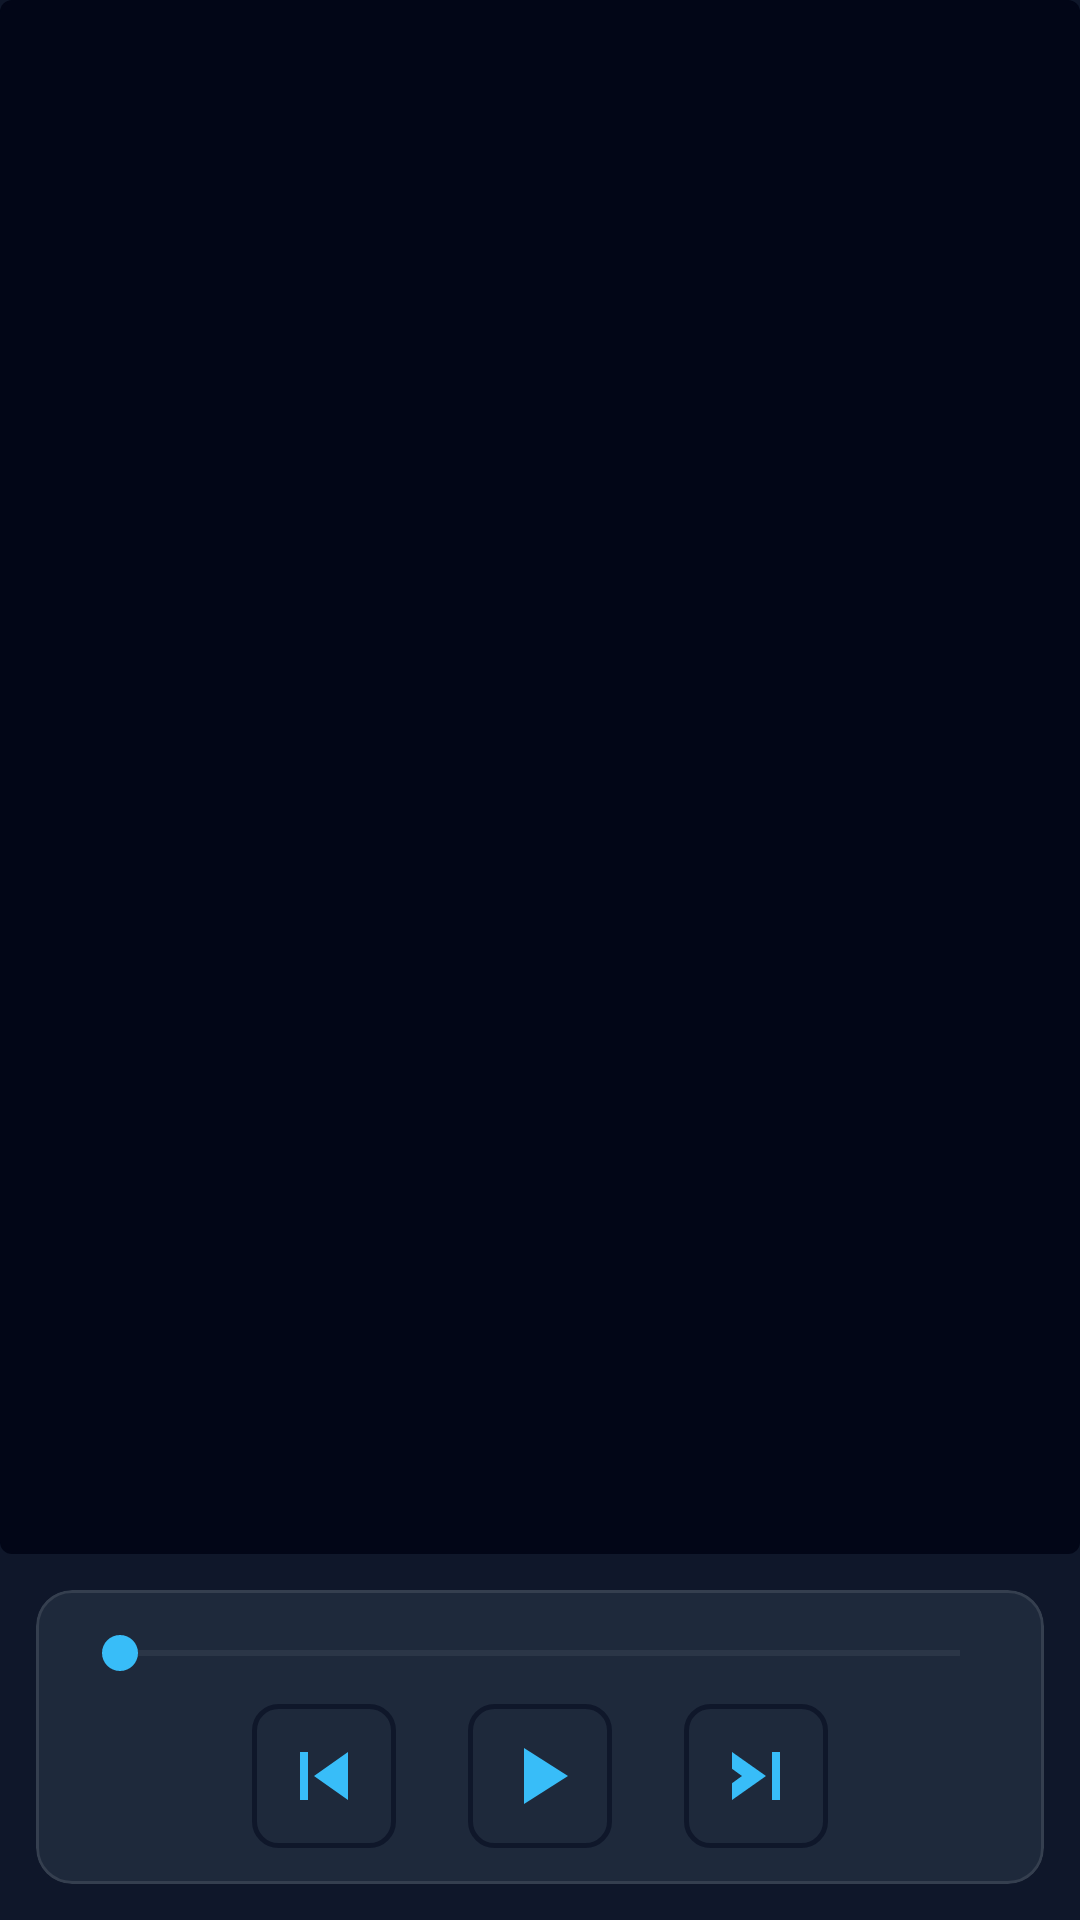

Icons on this 1080 × 1920 Android screen, each with its box as (x1, y1, x2, y2):
Anterior: (300, 1752, 348, 1800)
Reproducir: (524, 1748, 568, 1804)
Siguiente: (732, 1752, 780, 1800)
